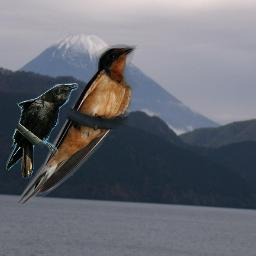Crow: (6, 83, 78, 179)
Swallow: (13, 43, 138, 206)
